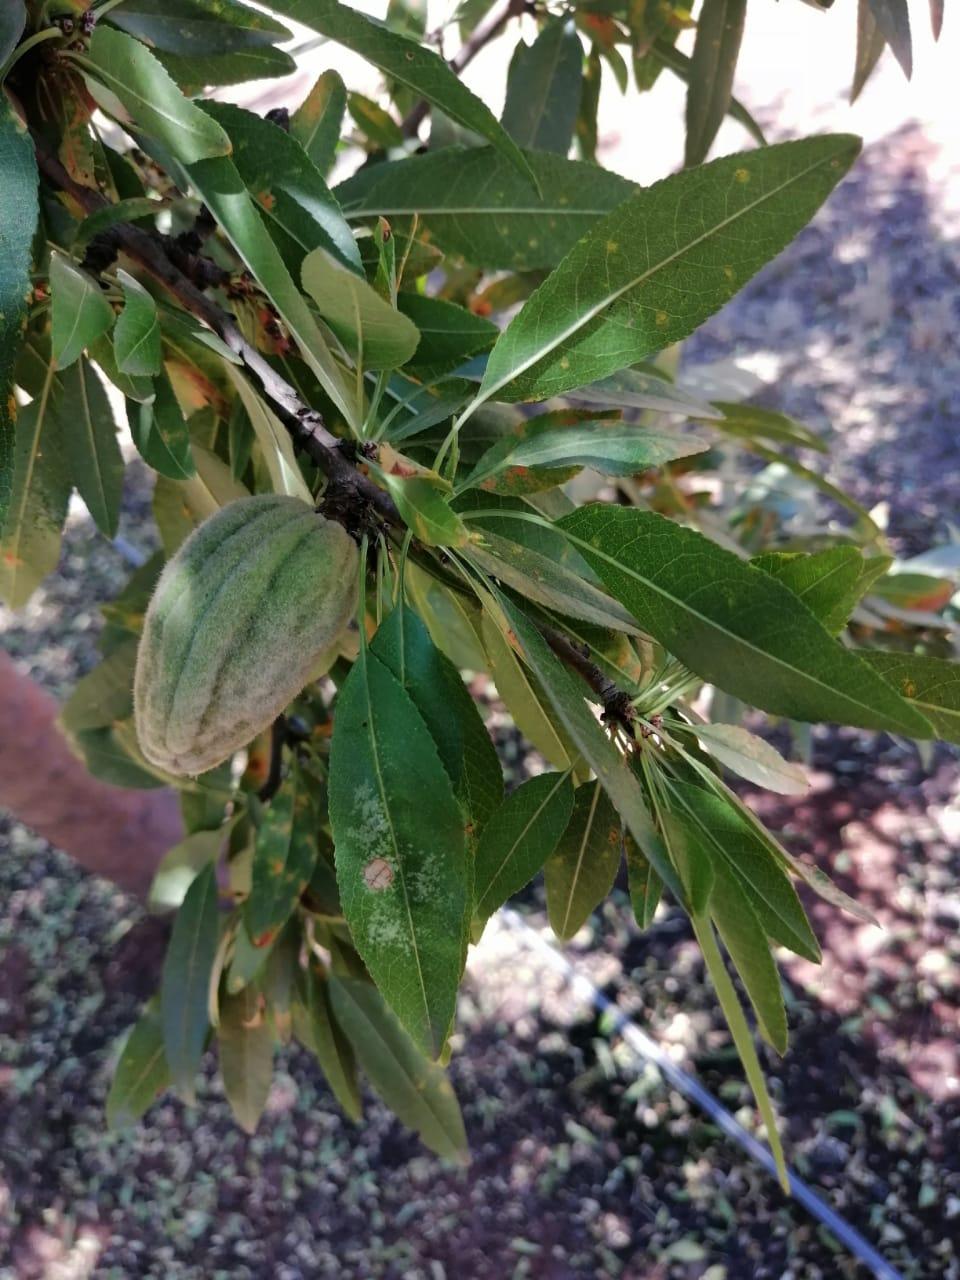faux tigre: (326, 648, 472, 1065)
